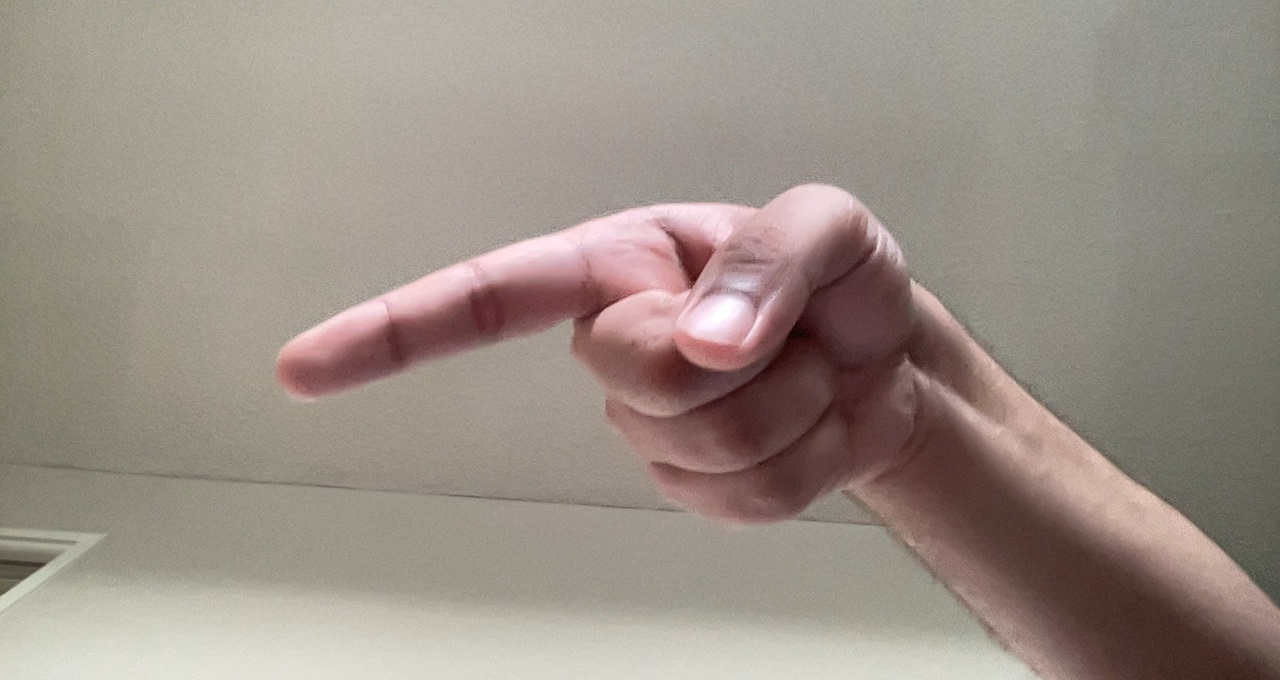fingerright: (264, 161, 920, 533)
